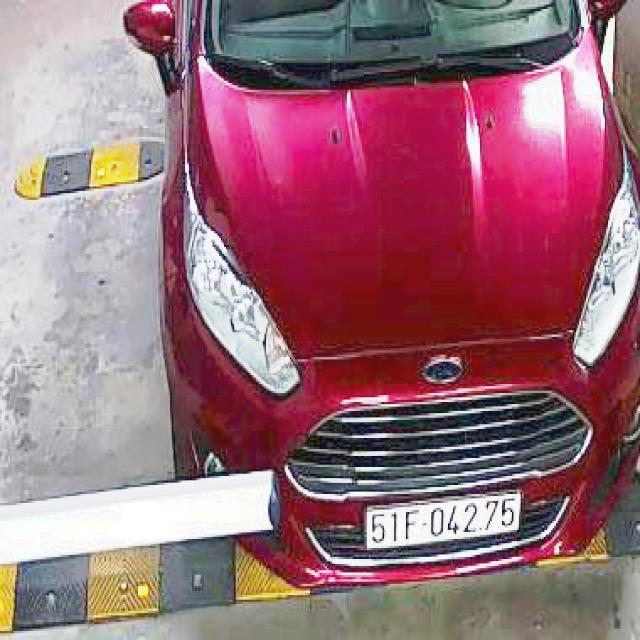license_plate: (369, 495, 522, 548)
